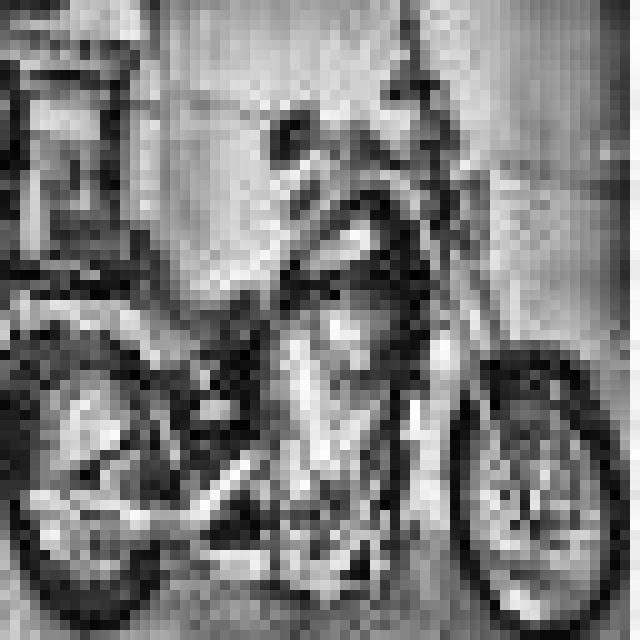mopeds: (0, 71, 636, 631)
